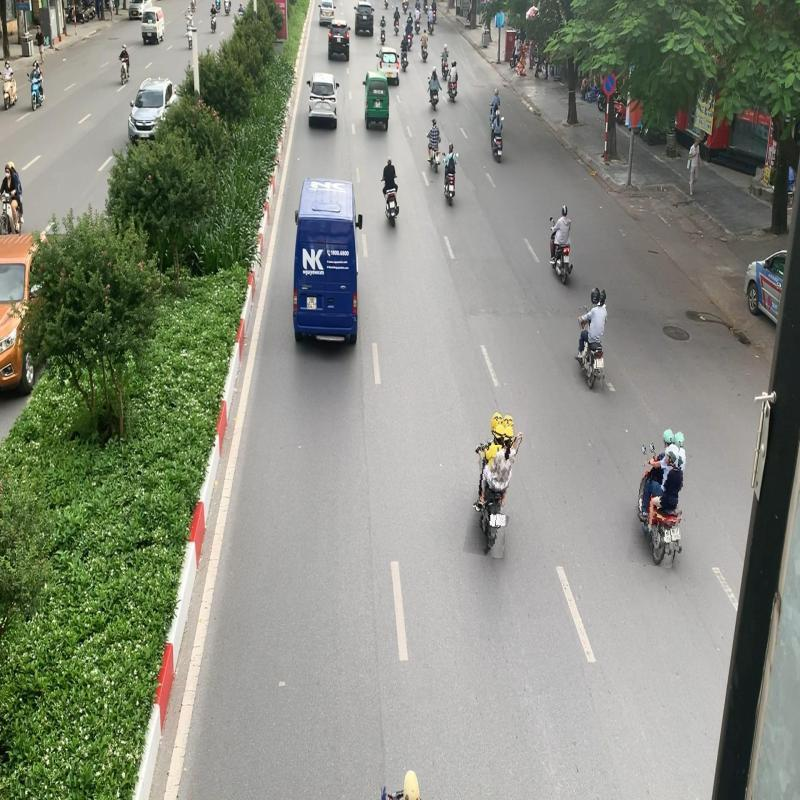helmet: (664, 443, 680, 467), (490, 412, 504, 436), (662, 428, 676, 448), (494, 425, 505, 445), (590, 288, 600, 306)
licenseplate: (671, 527, 681, 542), (496, 513, 506, 526), (596, 358, 604, 368)
motorcyclist: (632, 426, 690, 568), (469, 410, 521, 557), (573, 286, 610, 392)
